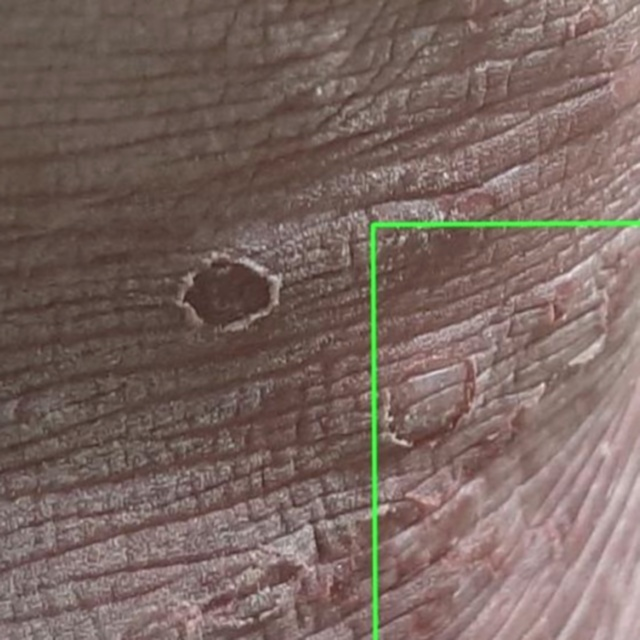Contact Dermatitis: (371, 224, 639, 639)
